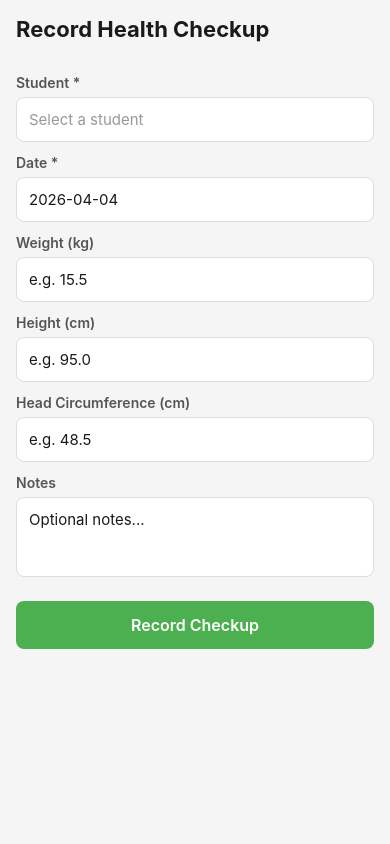
Test: HealthCheckupsScreen › selects a student from the picker
This screenshot has width=390, height=844.
Click the element with test id "student-picker-button" at coordinates (195, 120), box top-left (16, 97), bottom-right (374, 142)
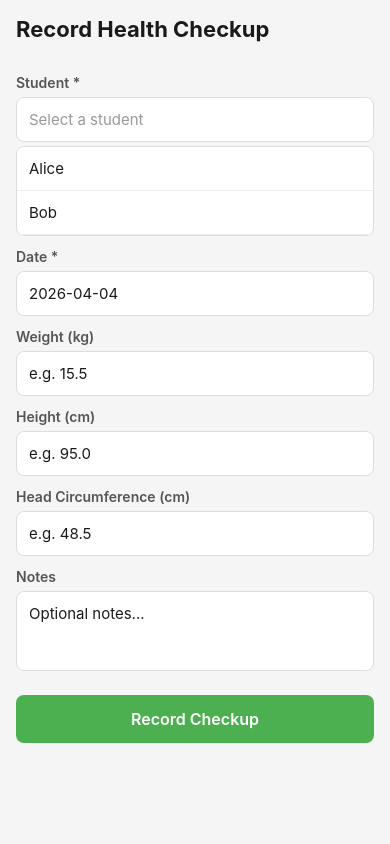
Click the element with test id "student-option-st1" at coordinates (195, 169), box top-left (17, 147), bottom-right (373, 191)
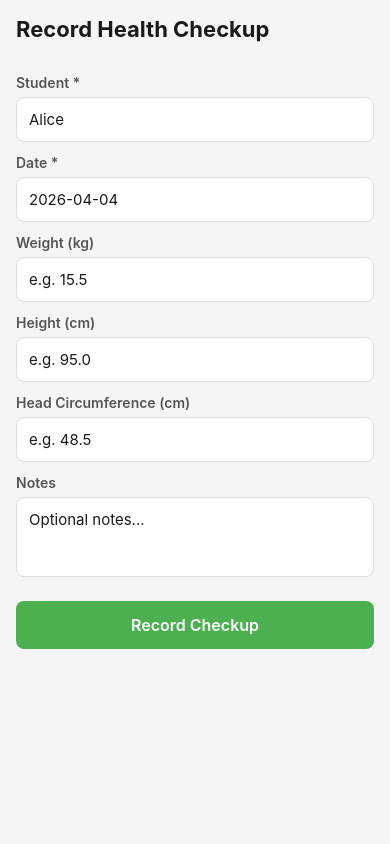
Expected: the text "Alice" is shown, top-left (29, 110), bottom-right (64, 129)
